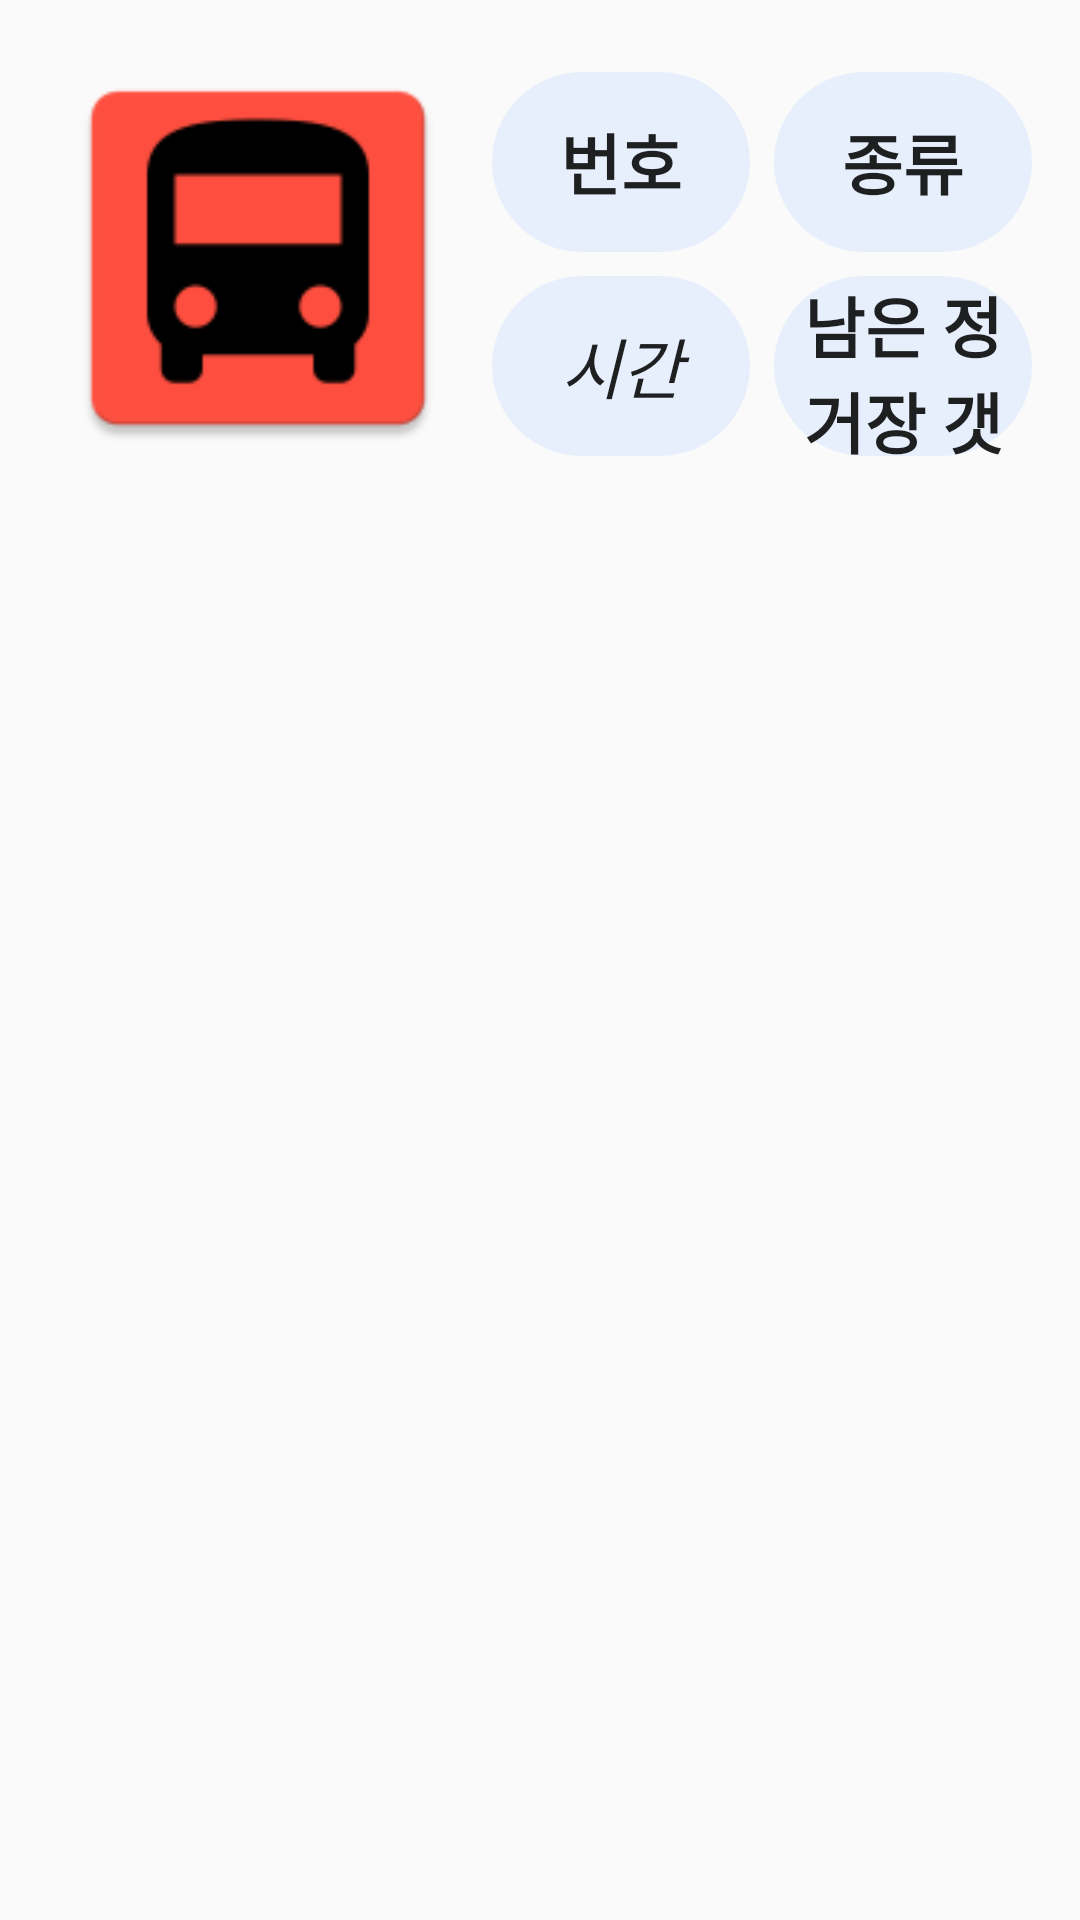

Named icons in this screenshot (1080×1920) and their bounding boxes, box(x1, y1, x2, y2):
express bus: box(89, 90, 428, 435)
